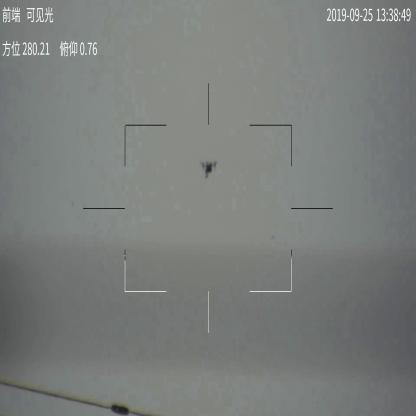uav: (201, 157, 219, 182)
